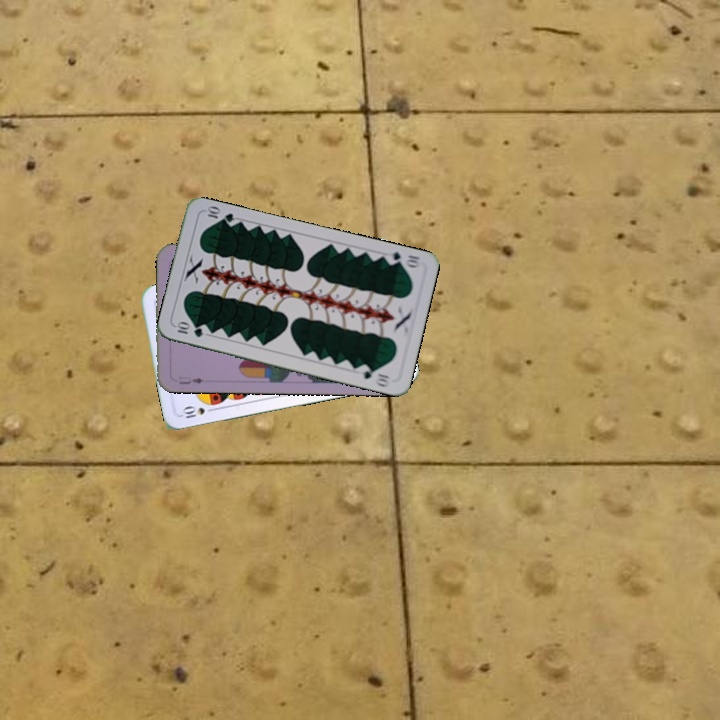EU: (175, 372, 206, 386)
G10: (382, 248, 423, 271), (172, 319, 206, 340)
S10: (178, 403, 218, 421)
